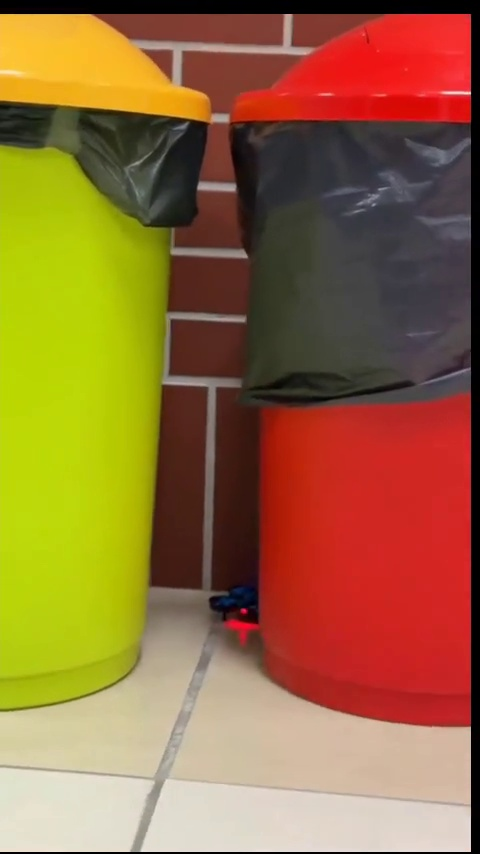drone: (211, 580, 259, 627)
